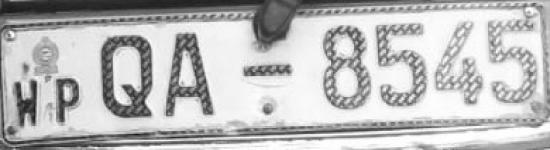-: (236, 59, 296, 84)
4: (433, 15, 487, 111)
5: (374, 16, 432, 112), (484, 15, 542, 106)
8: (320, 20, 374, 113)
A: (161, 28, 226, 124)
P: (48, 76, 83, 127)
Q: (93, 30, 160, 123)
W: (7, 78, 43, 129)
